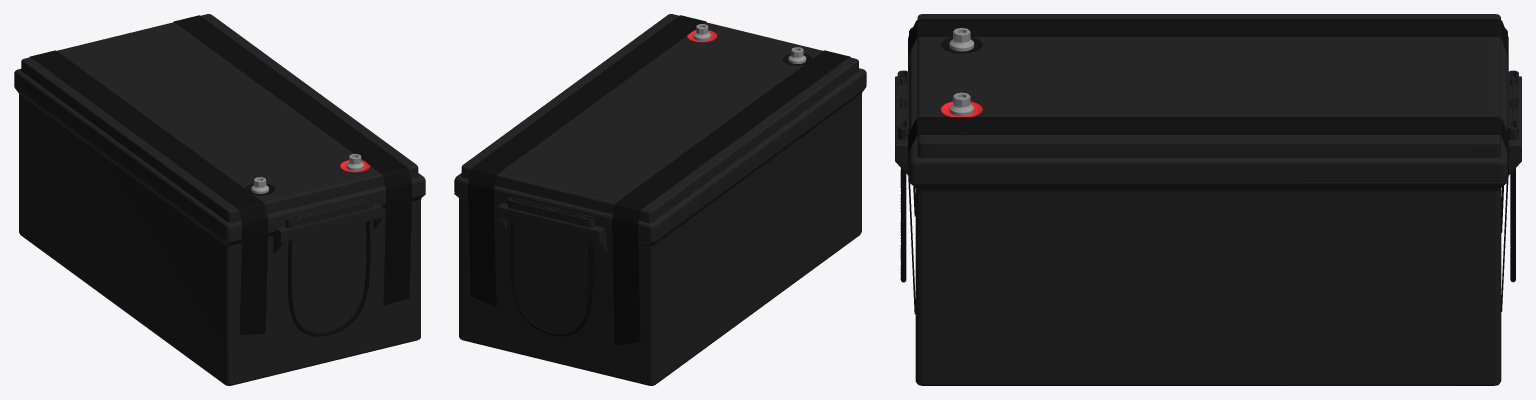
The model's file is 400-battery-no-heat.glb.
3 views of the same model, side by side, from view 1: azimuth 30°, elevation 25°; view 2: azimuth 150°, elevation 25°; view 3: azimuth 270°, elevation 25° (orthographic). The views are drawn at different scales.
Visible parts, largest first — view 1: _400_battery_no_heat1; view 2: _400_battery_no_heat1; view 3: _400_battery_no_heat1.
Boxes of the visible parts, x1,y1,x2,y2 form: _400_battery_no_heat1: (14, 14, 425, 385); _400_battery_no_heat1: (454, 14, 866, 385); _400_battery_no_heat1: (895, 14, 1521, 385).
Bounding box in the file's own units: 0.2661 × 0.2341 × 0.5177.
Materials: 1 (1 with a texture image).
